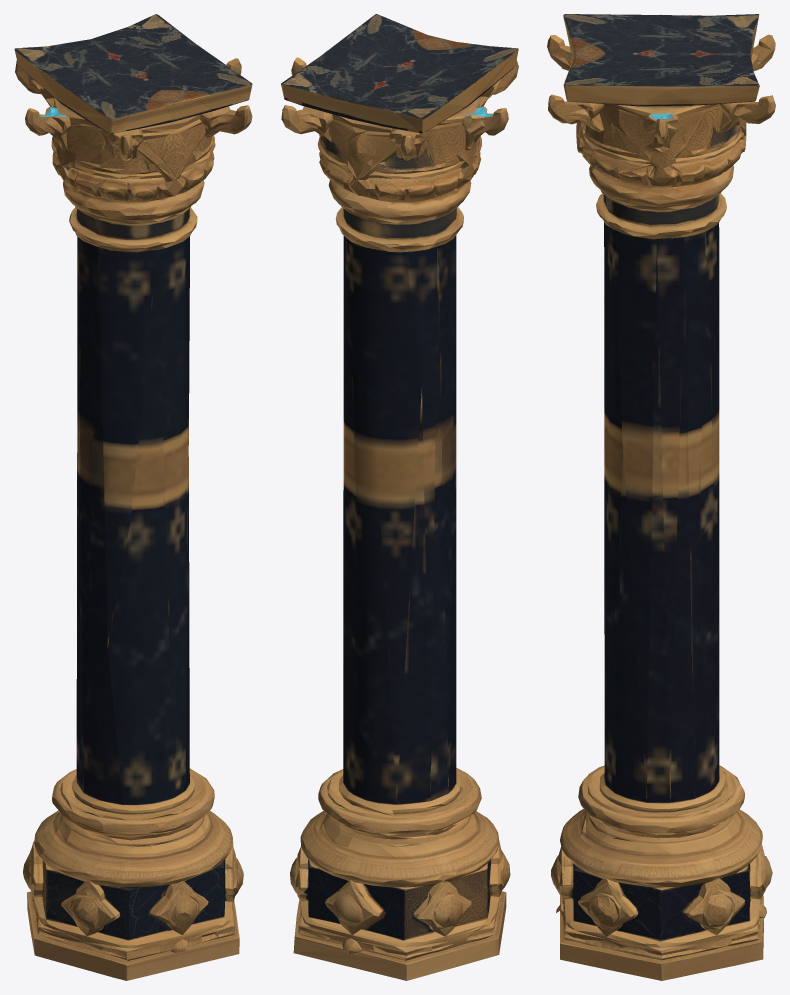
File: crystal-pillar.glb
3 renders of one model, left to right at view 1: azimuth 30°, elevation 25°; view 2: azimuth 150°, elevation 25°; view 3: azimuth 270°, elevation 25°, orthographic. The views are drawn at different scales.
Size of the model in its own units: 0.4942 by 1.9 by 0.4469.
Materials: 1 (1 with a texture image).
